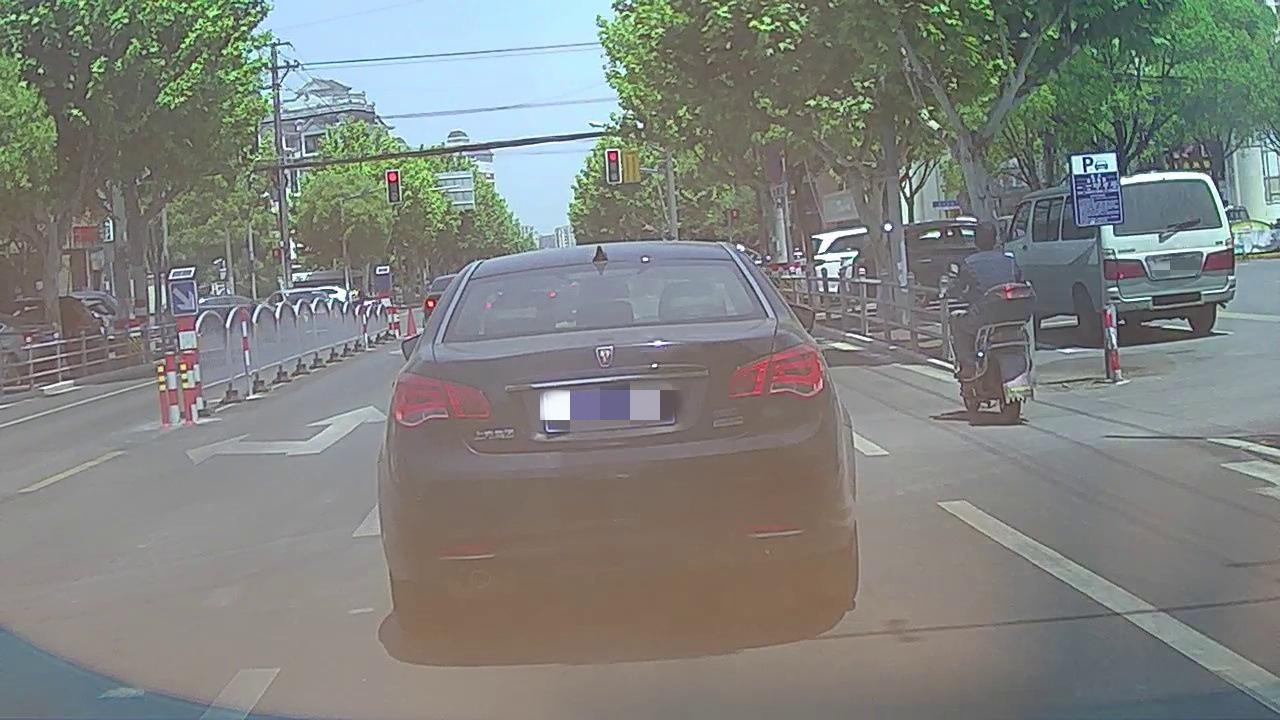traffic_light: (384, 171, 400, 202), (606, 150, 621, 182)
